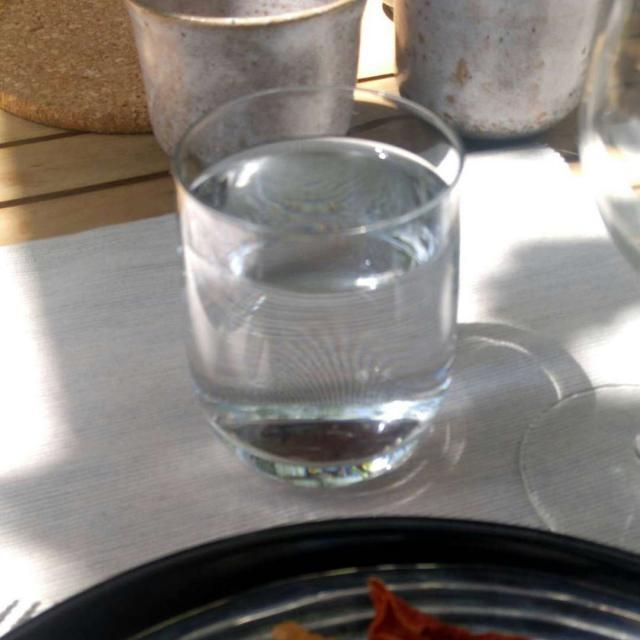water: (183, 136, 450, 472)
